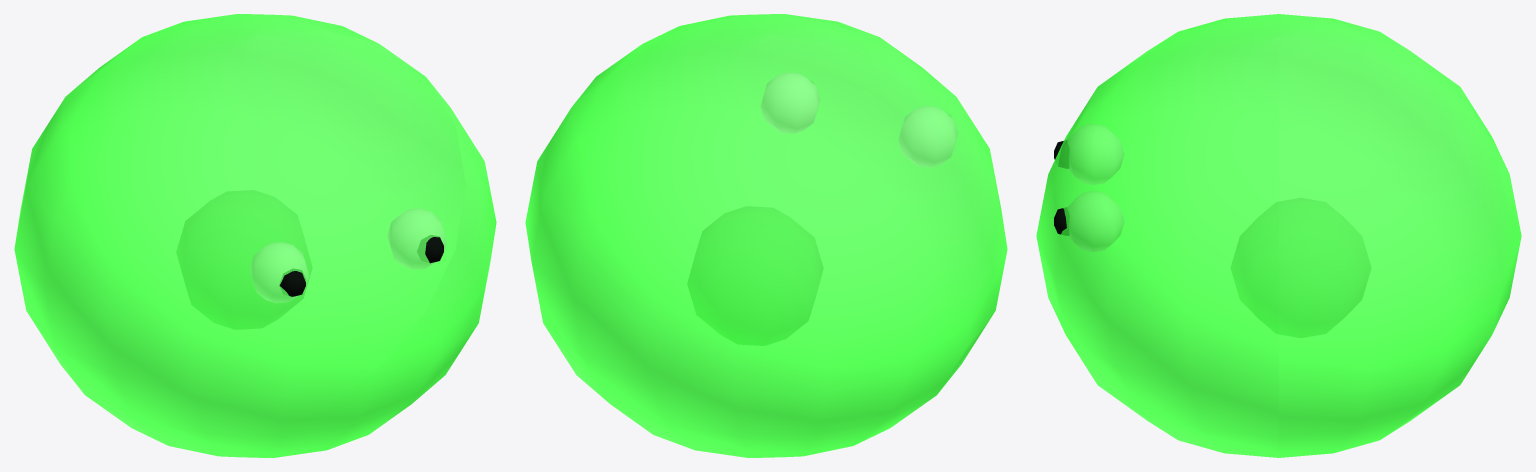
Rendered from slime.glb.
3 views of the same model, side by side, from view 1: azimuth 30°, elevation 25°; view 2: azimuth 150°, elevation 25°; view 3: azimuth 270°, elevation 25° (orthographic).
Visible parts, largest first — view 1: Raiz; view 2: Raiz; view 3: Raiz.
Boxes of the visible parts, x1,y1,x2,y2 form: Raiz: (14,14,496,457); Raiz: (525,14,1007,457); Raiz: (1036,14,1521,457).
Bounding box in the file's own units: 1.1 × 1 × 1.1.
